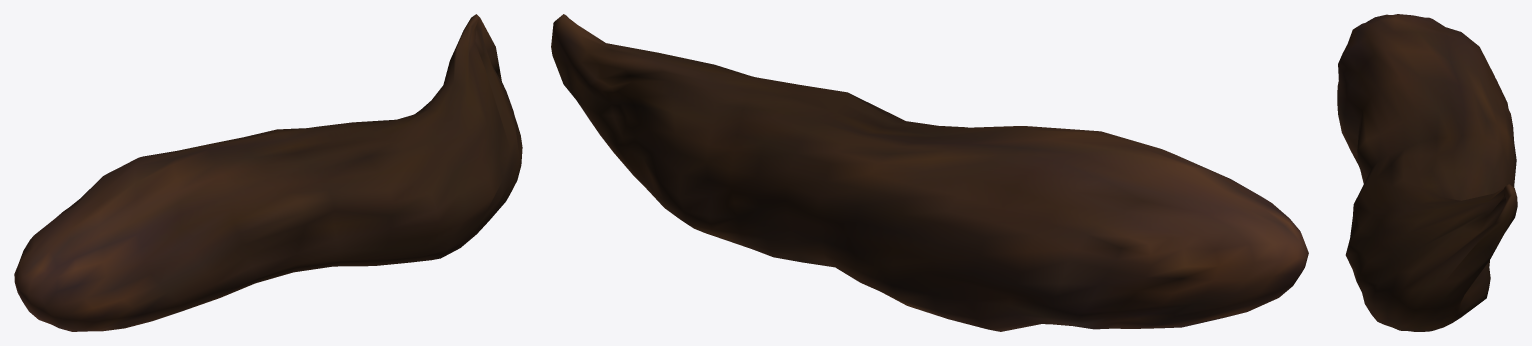
Rendered from Poop.fbx.
3 renders of one model, left to right at view 1: azimuth 30°, elevation 25°; view 2: azimuth 150°, elevation 25°; view 3: azimuth 270°, elevation 25°, orthographic. The views are drawn at different scales.
Parts seen in each view (by area): view 1: PM3D_cube_NewUVs_1; view 2: PM3D_cube_NewUVs_1; view 3: PM3D_cube_NewUVs_1.
Part boxes in pixels (bbox=[...]): PM3D_cube_NewUVs_1: bbox=[14, 14, 522, 331]; PM3D_cube_NewUVs_1: bbox=[551, 14, 1308, 331]; PM3D_cube_NewUVs_1: bbox=[1337, 14, 1517, 331].
Bounding box in the file's own units: 0.3667 × 0.1217 × 0.1028.
